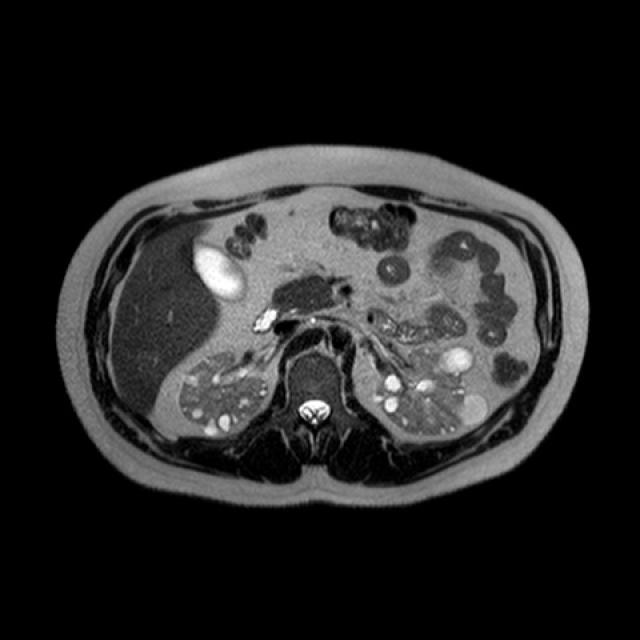sag: (176, 351, 269, 437)
sol: (372, 342, 491, 437)
